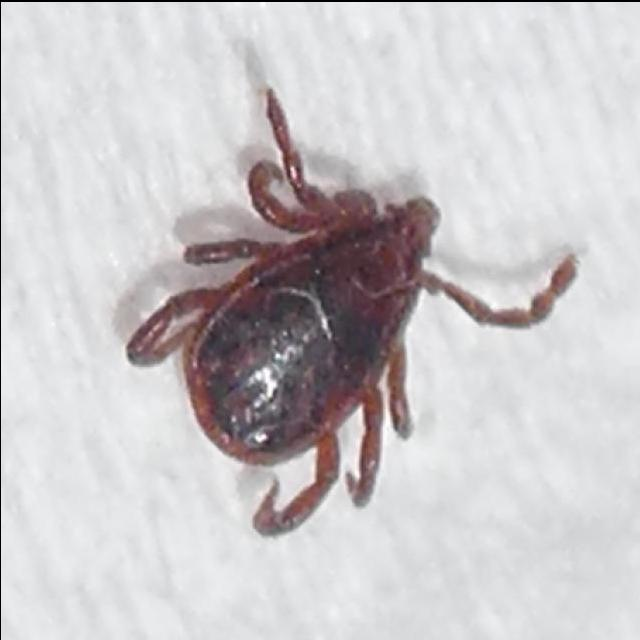Rhipicephalus Sanguineus-M: (121, 84, 579, 536)
